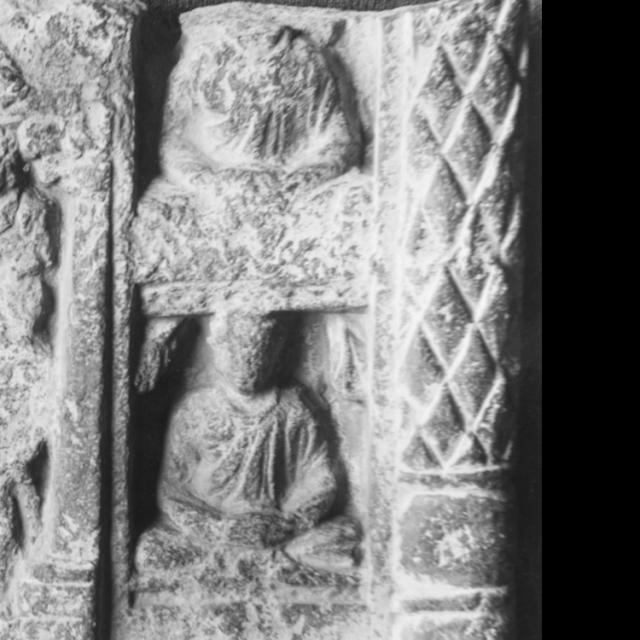buddha-sitting: (131, 311, 360, 640)
